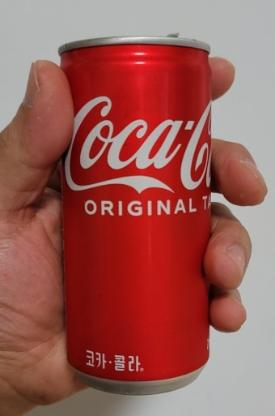Can: (59, 35, 215, 392)
